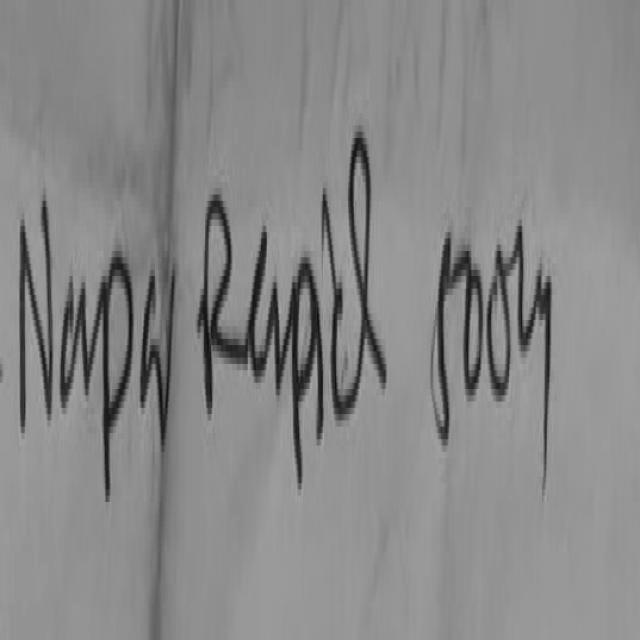0: (489, 245, 512, 395), (465, 257, 484, 392)
5: (431, 232, 470, 442)
N: (19, 195, 51, 430)
R: (204, 192, 248, 411)
a: (248, 226, 282, 386), (141, 270, 164, 442), (60, 279, 88, 405)
d: (333, 132, 387, 414)
i: (316, 304, 323, 436)
p: (101, 251, 132, 515), (292, 257, 319, 486)
